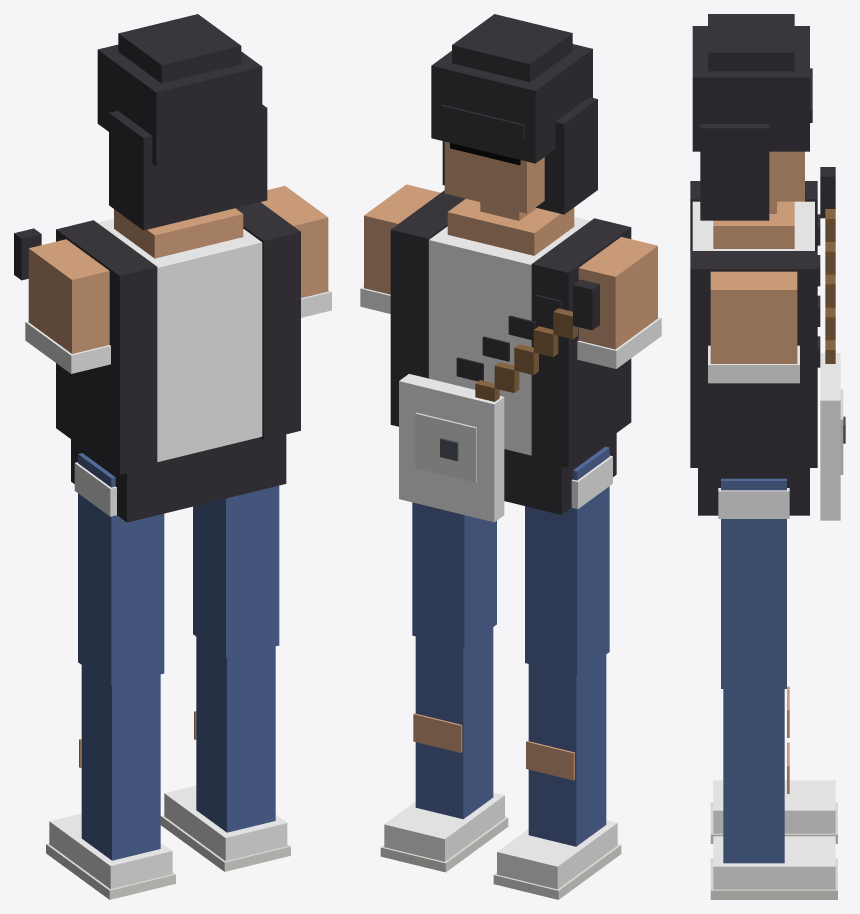
File: ROCKSTAR.gltf
The picture shows the model from 3 angles, left to right: view 1: azimuth 30°, elevation 25°; view 2: azimuth 150°, elevation 25°; view 3: azimuth 270°, elevation 25°; orthographic projection.
Parts seen in each view (by area): view 1: ROCKSTAR; view 2: ROCKSTAR; view 3: ROCKSTAR.
Part boxes in pixels (x1,y1,x2,y2): ROCKSTAR: (14, 14, 331, 899); ROCKSTAR: (360, 14, 661, 899); ROCKSTAR: (690, 14, 845, 899).
Bounding box in the file's own units: 0.59 × 1.78 × 0.305.
